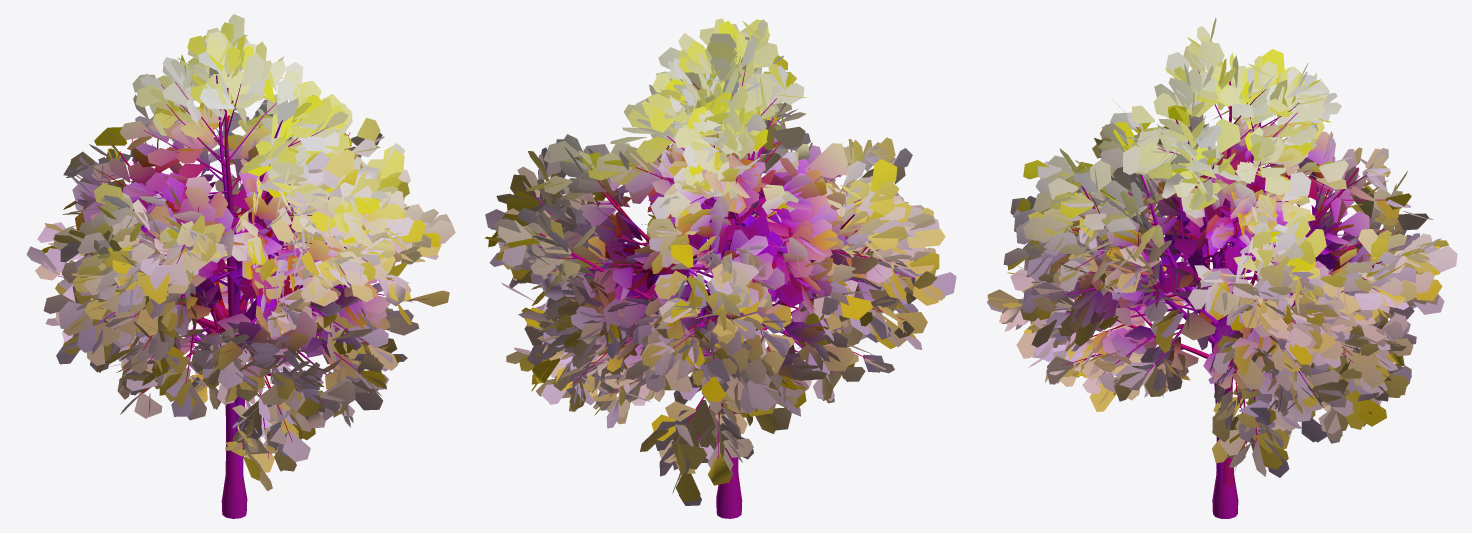
Rendered from oak.glb.
3 renders of one model, left to right at view 1: azimuth 30°, elevation 25°; view 2: azimuth 150°, elevation 25°; view 3: azimuth 270°, elevation 25°, orthographic. The views are drawn at different scales.
Parts seen in each view (by area): view 1: oak_v0_lod0, oak_v1_lod0, oak_v2_lod0; view 2: oak_v1_lod0, oak_v2_lod0, oak_v0_lod0; view 3: oak_v0_lod0, oak_v2_lod0, oak_v1_lod0.
Boxes of the visible parts, x1,y1,x2,y2 form: oak_v0_lod0: (53,31,455,491); oak_v1_lod0: (26,14,384,518); oak_v2_lod0: (43,60,419,420); oak_v1_lod0: (485,18,924,518); oak_v2_lod0: (506,28,956,450); oak_v0_lod0: (484,55,927,392); oak_v0_lod0: (986,63,1457,479); oak_v2_lod0: (1010,52,1444,487); oak_v1_lod0: (1066,17,1411,518).
Size of what is drawn, in the model's own units: 18.12 by 21.35 by 18.73.
